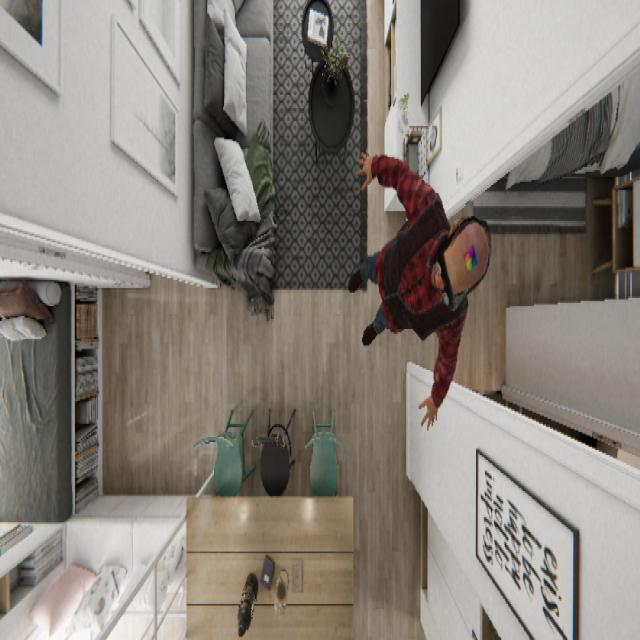Colored-Marker: (462, 239, 478, 273)
Human: (348, 147, 491, 430)
